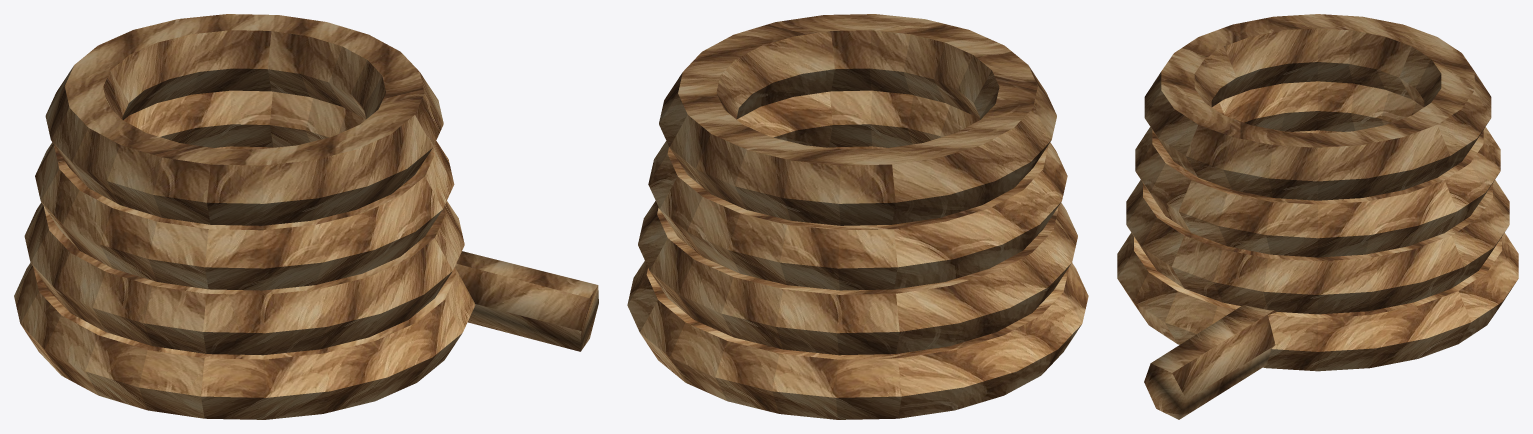
Rendered from rope.glb.
3 renders of one model, left to right at view 1: azimuth 30°, elevation 25°; view 2: azimuth 150°, elevation 25°; view 3: azimuth 270°, elevation 25°, orthographic. The views are drawn at different scales.
Visible parts, largest first — view 1: model; view 2: model; view 3: model.
Part boxes in pixels (<box>): model: <box>14,14,598,419</box>; model: <box>627,14,1088,419</box>; model: <box>1117,14,1518,419</box>.
Bounding box in the file's own units: 0.3165 × 0.1616 × 0.2613.
3 materials, 3 textured.
